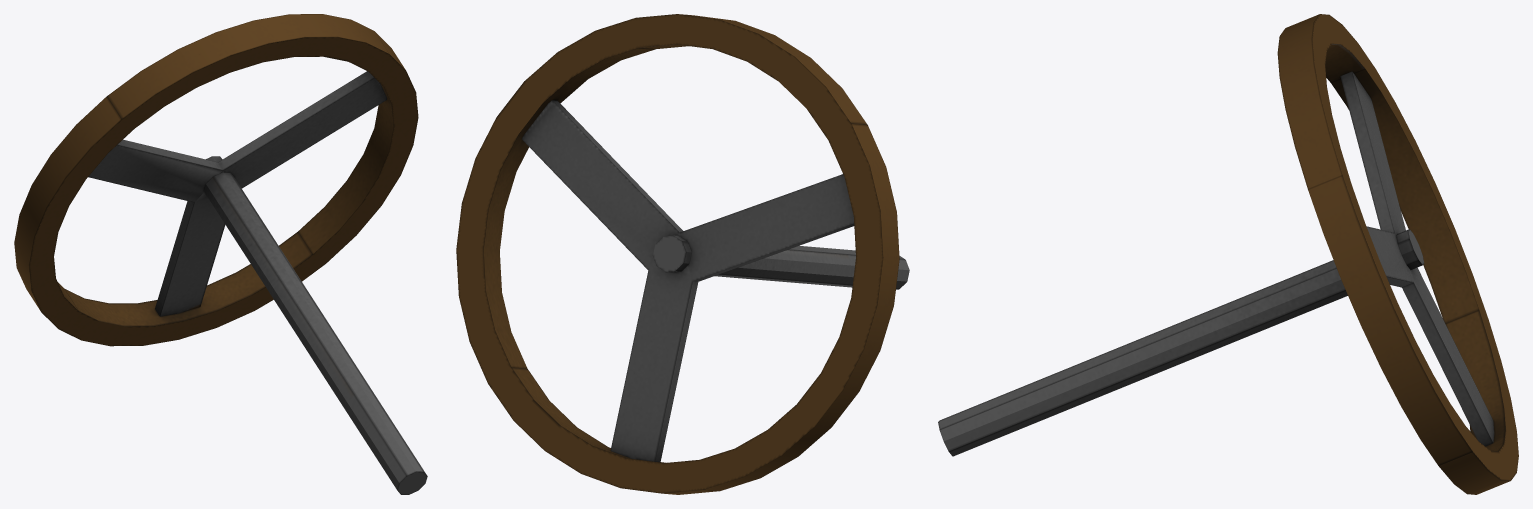
The model's file is JeepSteeringWheel.fbx.
3 renders of one model, left to right at view 1: azimuth 30°, elevation 25°; view 2: azimuth 150°, elevation 25°; view 3: azimuth 270°, elevation 25°, orthographic. The views are drawn at different scales.
Parts seen in each view (by area): view 1: Steering Wheel; view 2: Steering Wheel; view 3: Steering Wheel.
Boxes of the visible parts, bbox=[...] form: Steering Wheel: bbox=[14, 14, 427, 494]; Steering Wheel: bbox=[456, 14, 909, 494]; Steering Wheel: bbox=[938, 14, 1518, 494].
Size of the model in its own units: 49.25 by 46.44 by 56.7.
